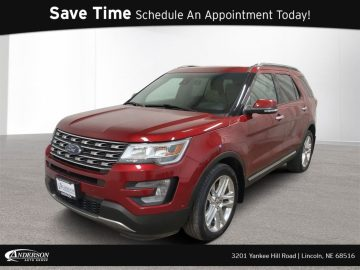Ford Explorer: (45, 63, 317, 243)
